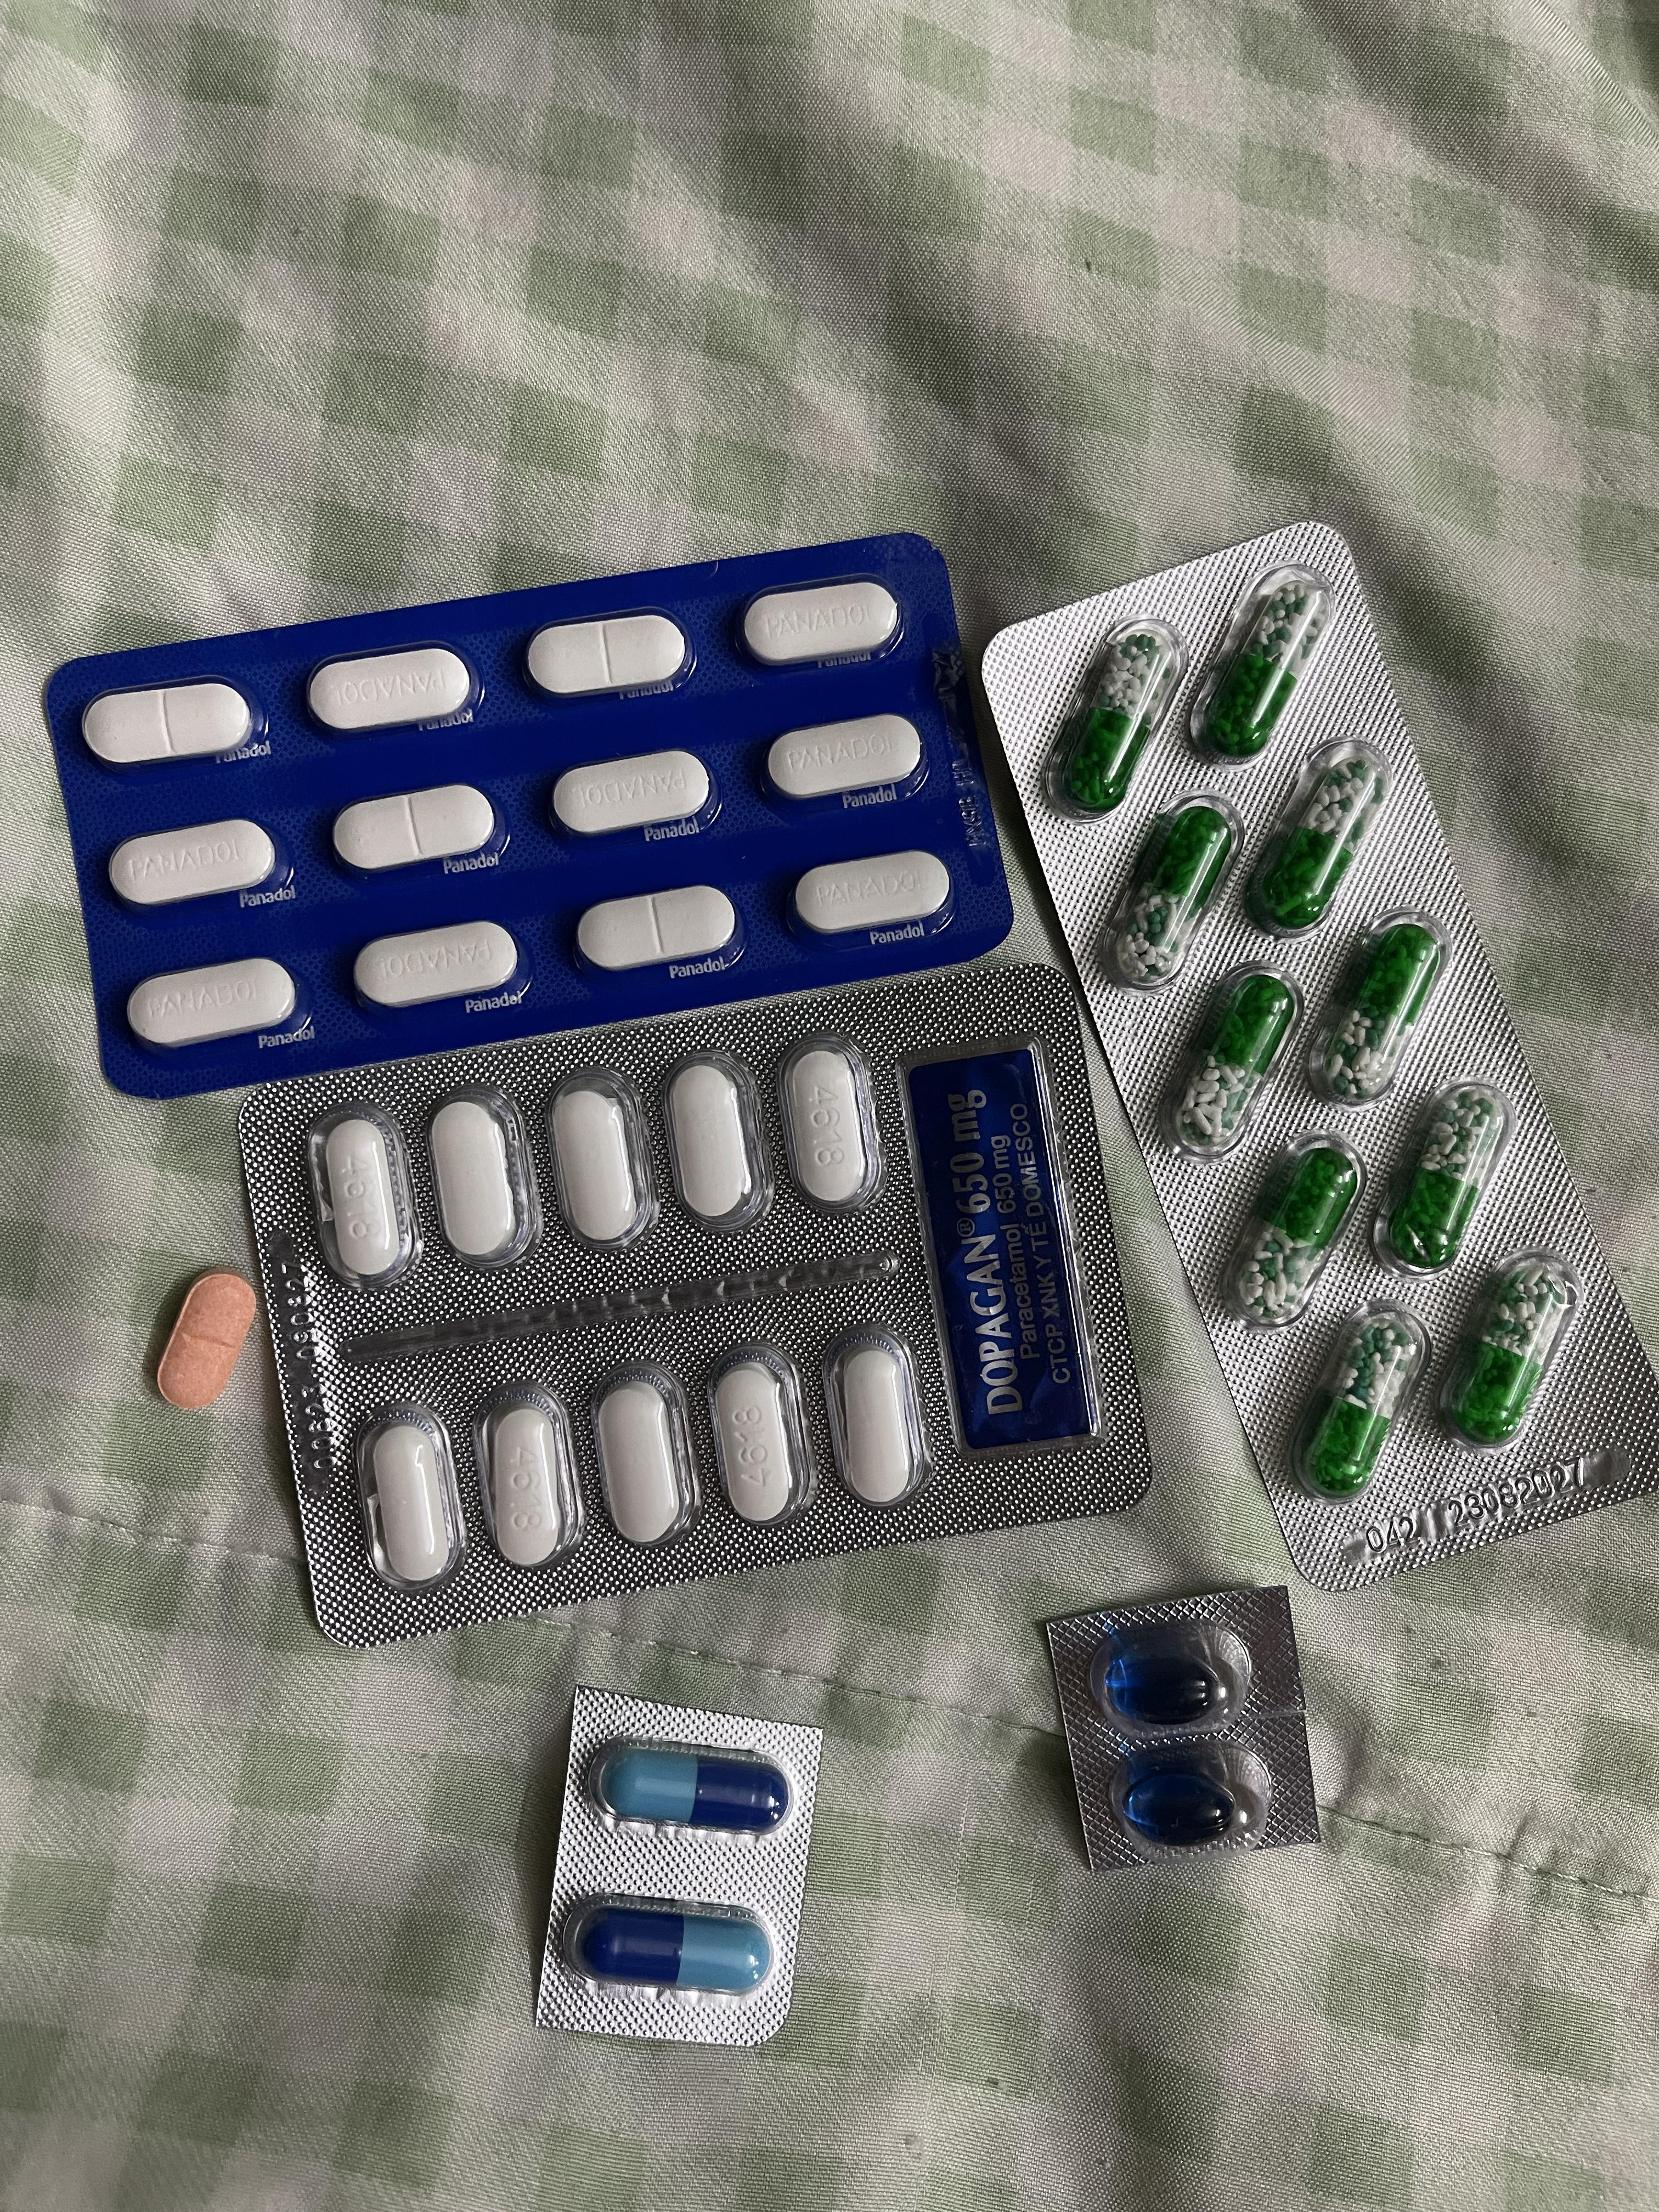Lincomyxin_500mg: (1126, 1771, 1244, 1844), (1108, 1649, 1225, 1723)
Loratadine_10mg: (155, 1270, 258, 1413)
Paracetamol_350mg: (125, 958, 300, 1052), (308, 644, 483, 738), (108, 819, 284, 911), (82, 681, 260, 770), (739, 577, 906, 671), (356, 921, 525, 1012), (526, 611, 694, 702), (333, 786, 498, 876), (762, 714, 924, 806), (552, 751, 718, 838), (793, 852, 955, 941), (579, 887, 741, 974)
Paracetamol_500mg: (300, 1104, 420, 1287), (356, 1406, 467, 1599), (472, 1381, 584, 1571), (711, 1345, 817, 1529), (545, 1068, 653, 1249), (777, 1033, 884, 1212), (429, 1094, 521, 1259), (598, 1381, 685, 1547), (671, 1059, 755, 1219), (836, 1341, 913, 1503)
Paracetamol_650mg: (1239, 740, 1394, 941), (1209, 1129, 1361, 1331), (1190, 564, 1337, 772), (1309, 913, 1455, 1118), (1155, 954, 1300, 1157), (1371, 1080, 1513, 1277), (1094, 796, 1230, 995), (1450, 1266, 1572, 1440), (1305, 1317, 1420, 1489), (1058, 631, 1161, 810)
pill: (563, 1897, 788, 1998), (601, 1750, 791, 1834)
